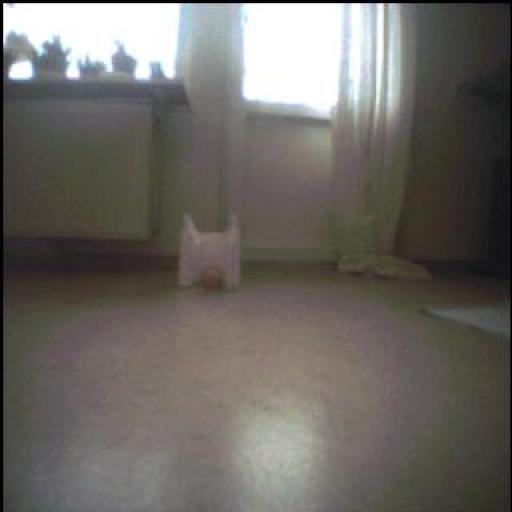Basket: (203, 266, 230, 294)
